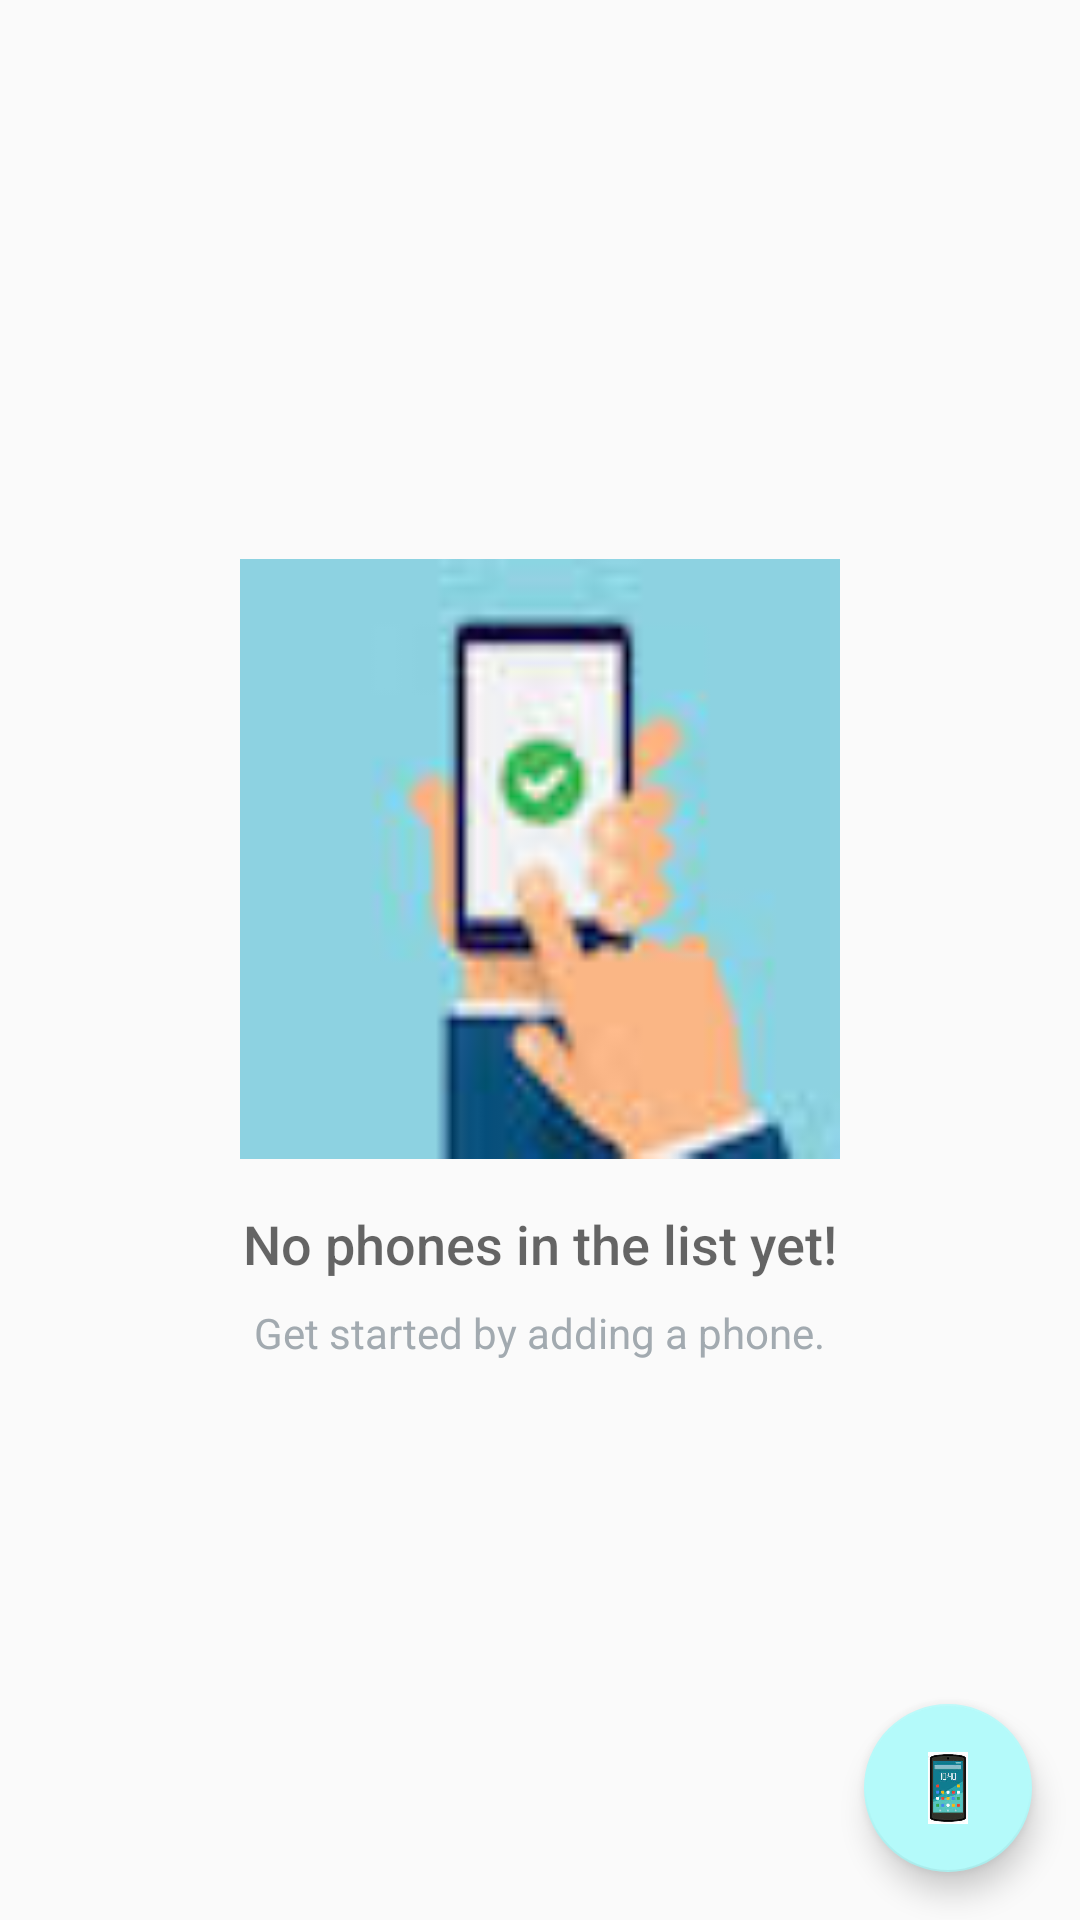

Screen size 1080px×1920px. Icon name, then its center in pixels as (x,y):
addphone: (948,1788)
